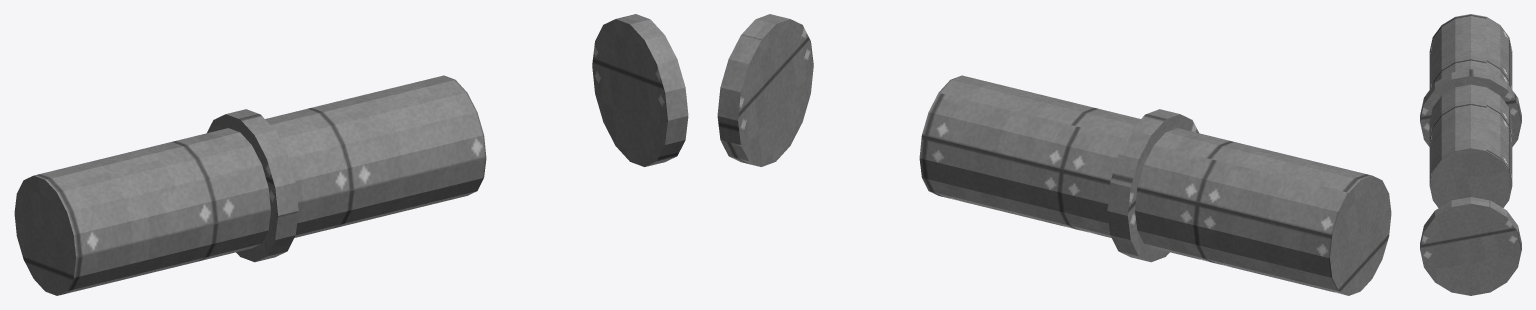
The model's file is pipe.glb.
3 renders of one model, left to right at view 1: azimuth 30°, elevation 25°; view 2: azimuth 150°, elevation 25°; view 3: azimuth 270°, elevation 25°, orthographic. The views are drawn at different scales.
Parts seen in each view (by area): view 1: pipe; view 2: pipe; view 3: pipe.
Boxes of the visible parts, x1,y1,x2,y2 form: pipe: (14,14,688,295); pipe: (717,14,1391,295); pipe: (1420,14,1521,295).
Bounding box in the file's own units: 1.47 × 0.32 × 0.32.
1 material, 1 textured.
